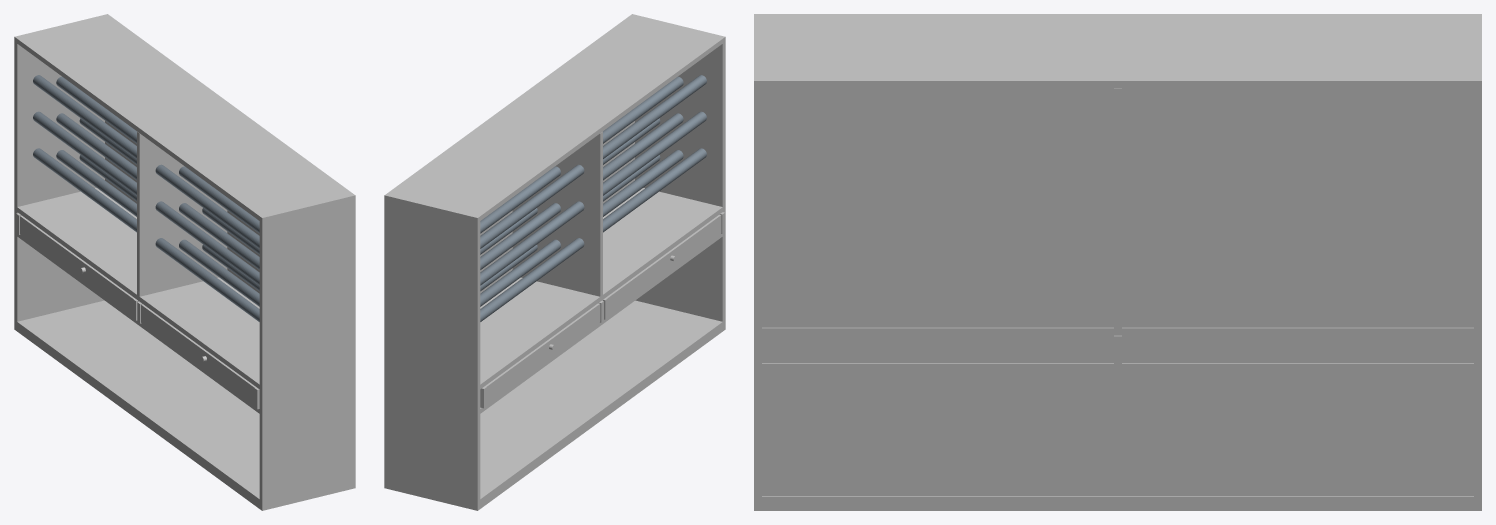
Rendered from LemariSepatuDepanRSG.fbx.
The picture shows the model from 3 angles, left to right: view 1: azimuth 30°, elevation 25°; view 2: azimuth 150°, elevation 25°; view 3: azimuth 270°, elevation 25°; orthographic projection. The views are drawn at different scales.
Visible parts, largest first — view 1: Cube, Cylinder.019, Cube.012, Cube.016; view 2: Cube, Cylinder.019, Cube.016, Cube.012; view 3: Cube.
Part boxes in pixels (x1,y1,x2,y2): Cube: (14, 14, 355, 510); Cylinder.019: (33, 75, 259, 321); Cube.012: (141, 304, 256, 405); Cube.016: (20, 215, 135, 316); Cube: (384, 14, 725, 510); Cylinder.019: (480, 75, 706, 321); Cube.016: (485, 303, 600, 404); Cube.012: (606, 214, 721, 315); Cube: (754, 14, 1481, 510).
Size of the model in its own units: 210 by 600 by 920.
